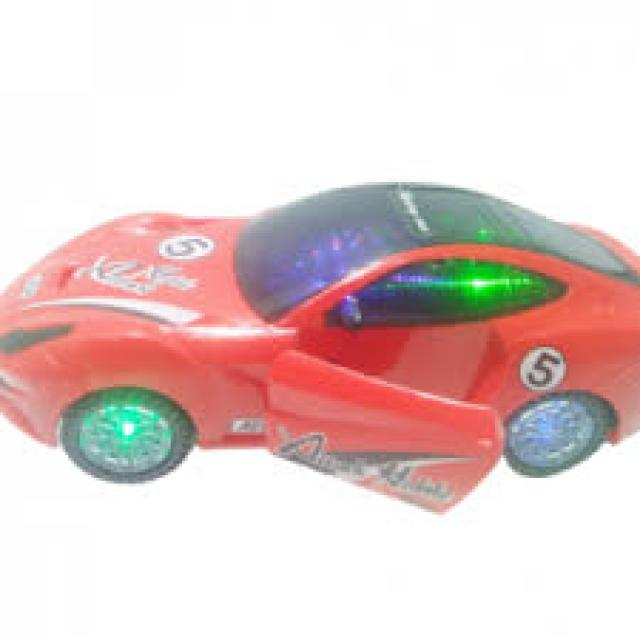Car: (0, 176, 637, 515)
